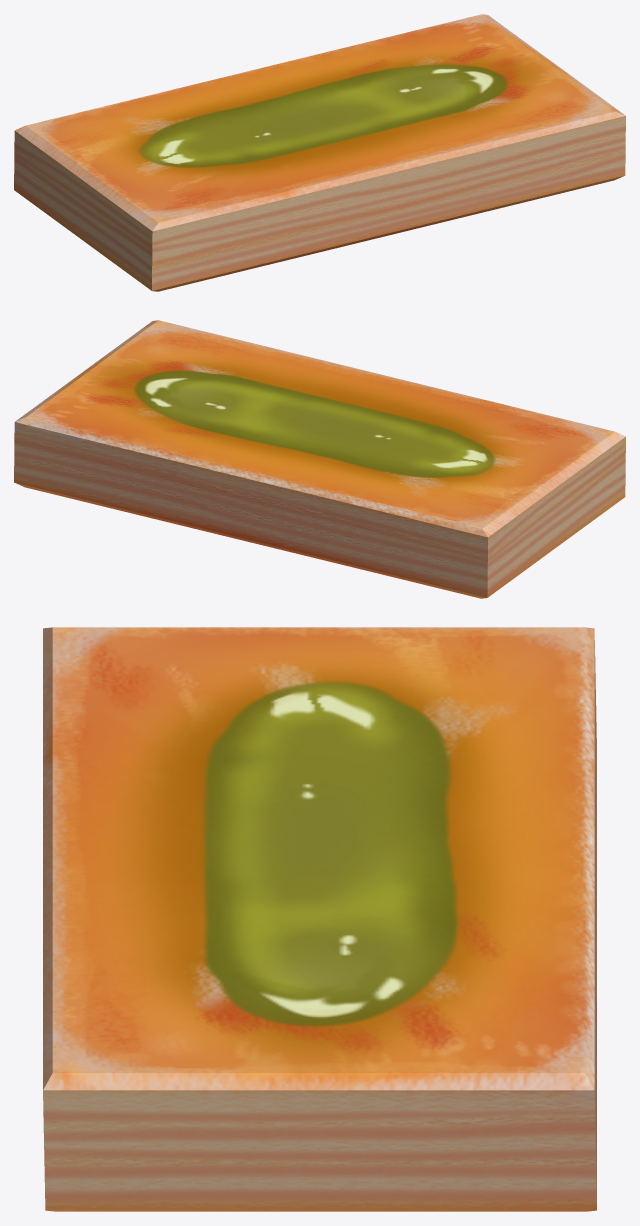
File: move.fbx
3 views of the same model, one above another, from view 1: azimuth 30°, elevation 25°; view 2: azimuth 150°, elevation 25°; view 3: azimuth 270°, elevation 25° (orthographic). The views are drawn at different scales.
Bounding box in the file's own units: 20 × 2.8 × 10.13.
1 material, 1 textured.
